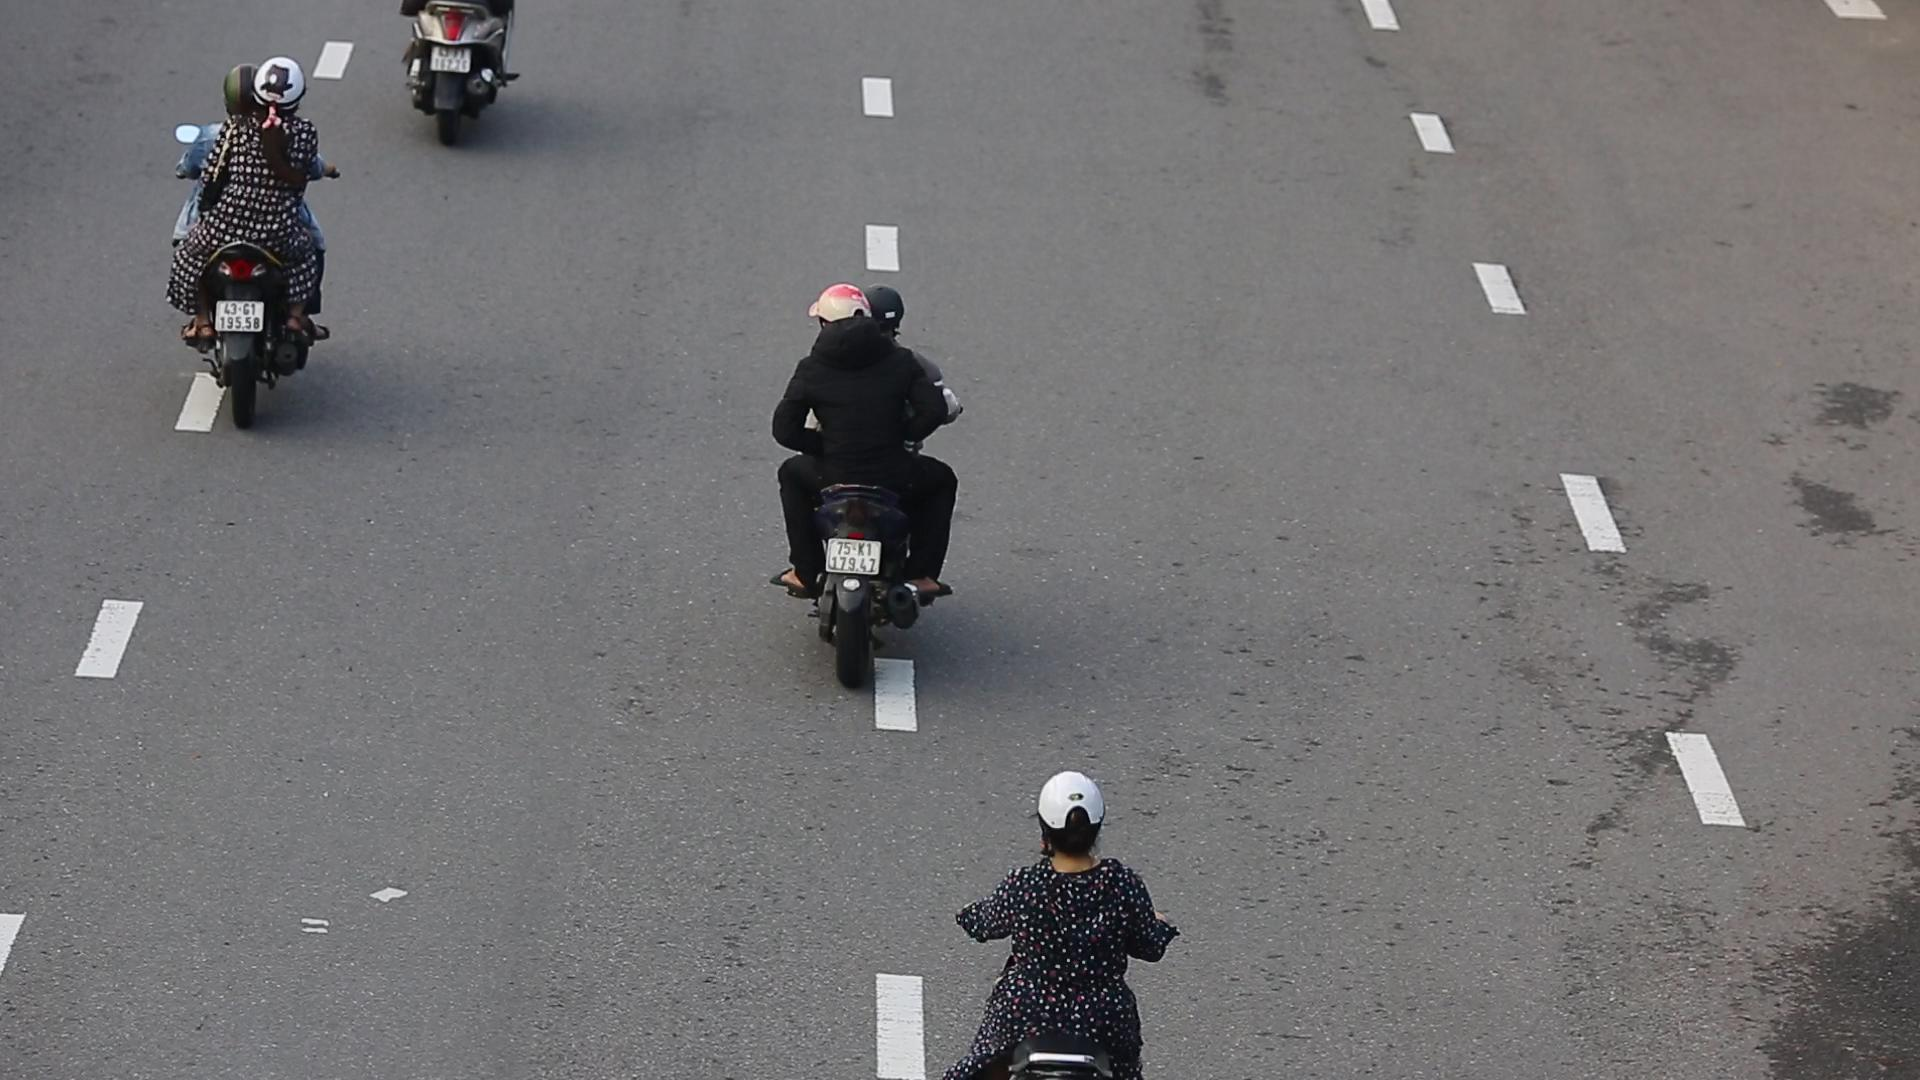motobike: (769, 278, 971, 699), (158, 55, 342, 422)
